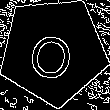O_N: (27, 21, 80, 81)
